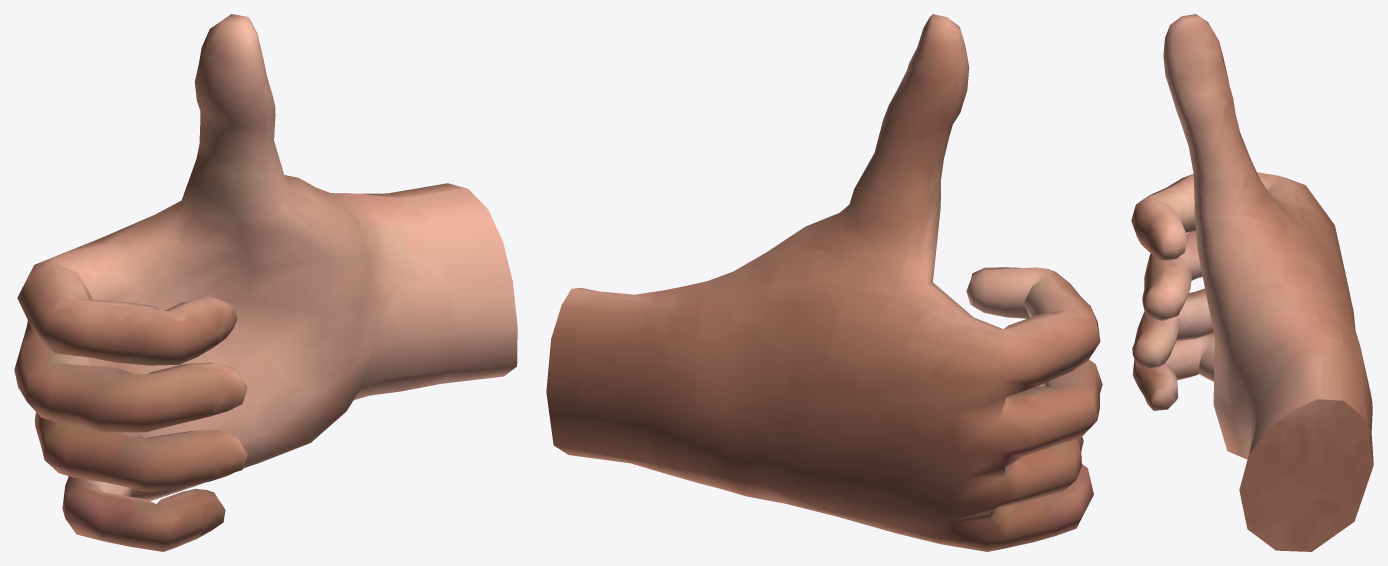
The model's file is hand.fbx.
The picture shows the model from 3 angles, left to right: view 1: azimuth 30°, elevation 25°; view 2: azimuth 150°, elevation 25°; view 3: azimuth 270°, elevation 25°; orthographic projection. The views are drawn at different scales.
Visible parts, largest first — view 1: pasted__pasted__polySurface8; view 2: pasted__pasted__polySurface8; view 3: pasted__pasted__polySurface8.
Boxes of the visible parts, x1,y1,x2,y2 form: pasted__pasted__polySurface8: (14,14,517,551); pasted__pasted__polySurface8: (546,14,1102,551); pasted__pasted__polySurface8: (1131,14,1373,551).
Size of the model in its own units: 8.83 by 8.34 by 4.32.
Materials: 1 (1 with a texture image).
